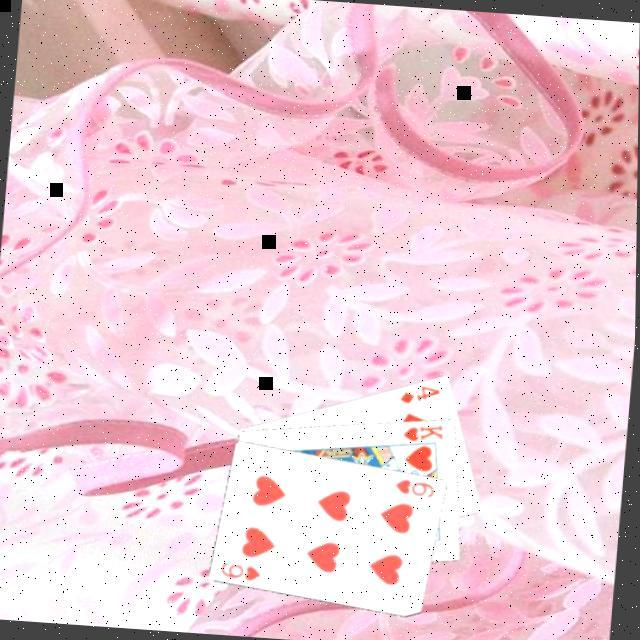4D: (396, 382, 444, 409)
6H: (218, 558, 265, 584), (392, 475, 438, 501)
KH: (399, 419, 447, 447)
